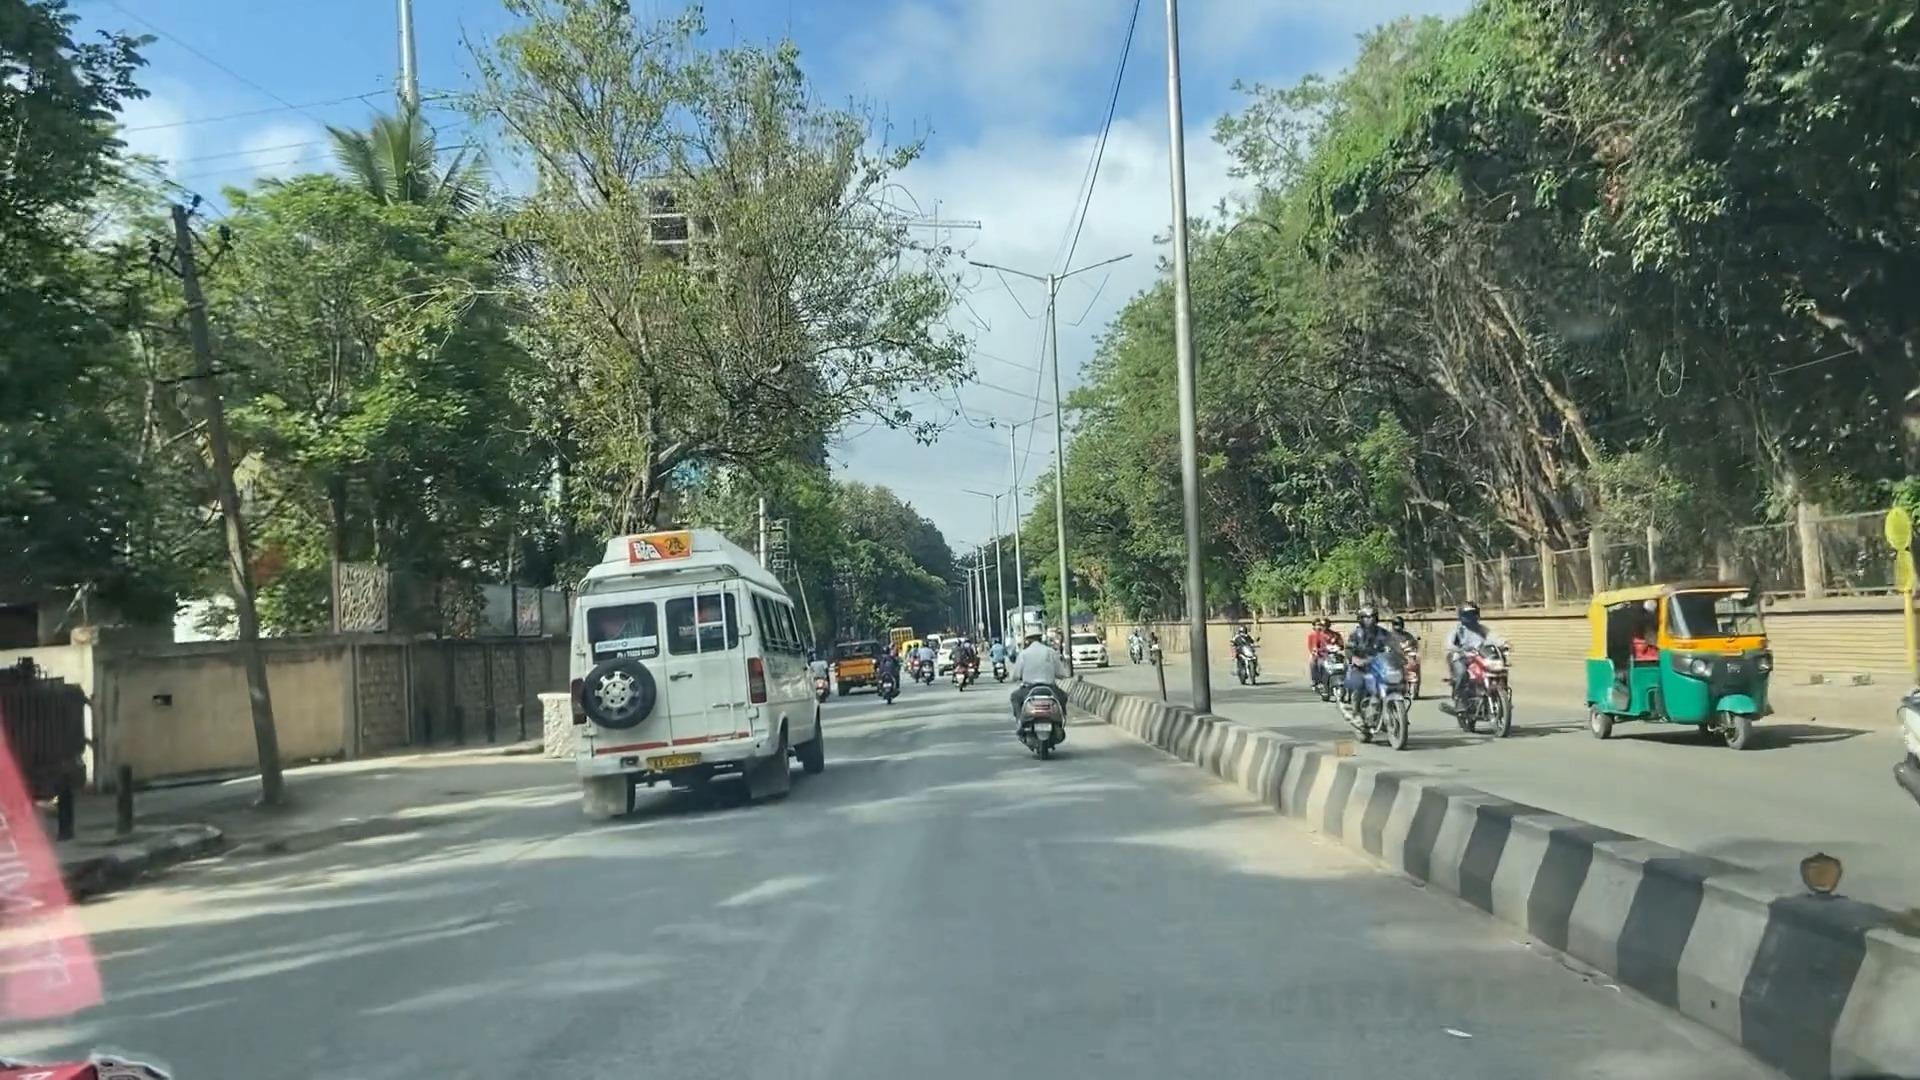HMV: (527, 513, 833, 798)
LMV: (1007, 621, 1075, 758)
